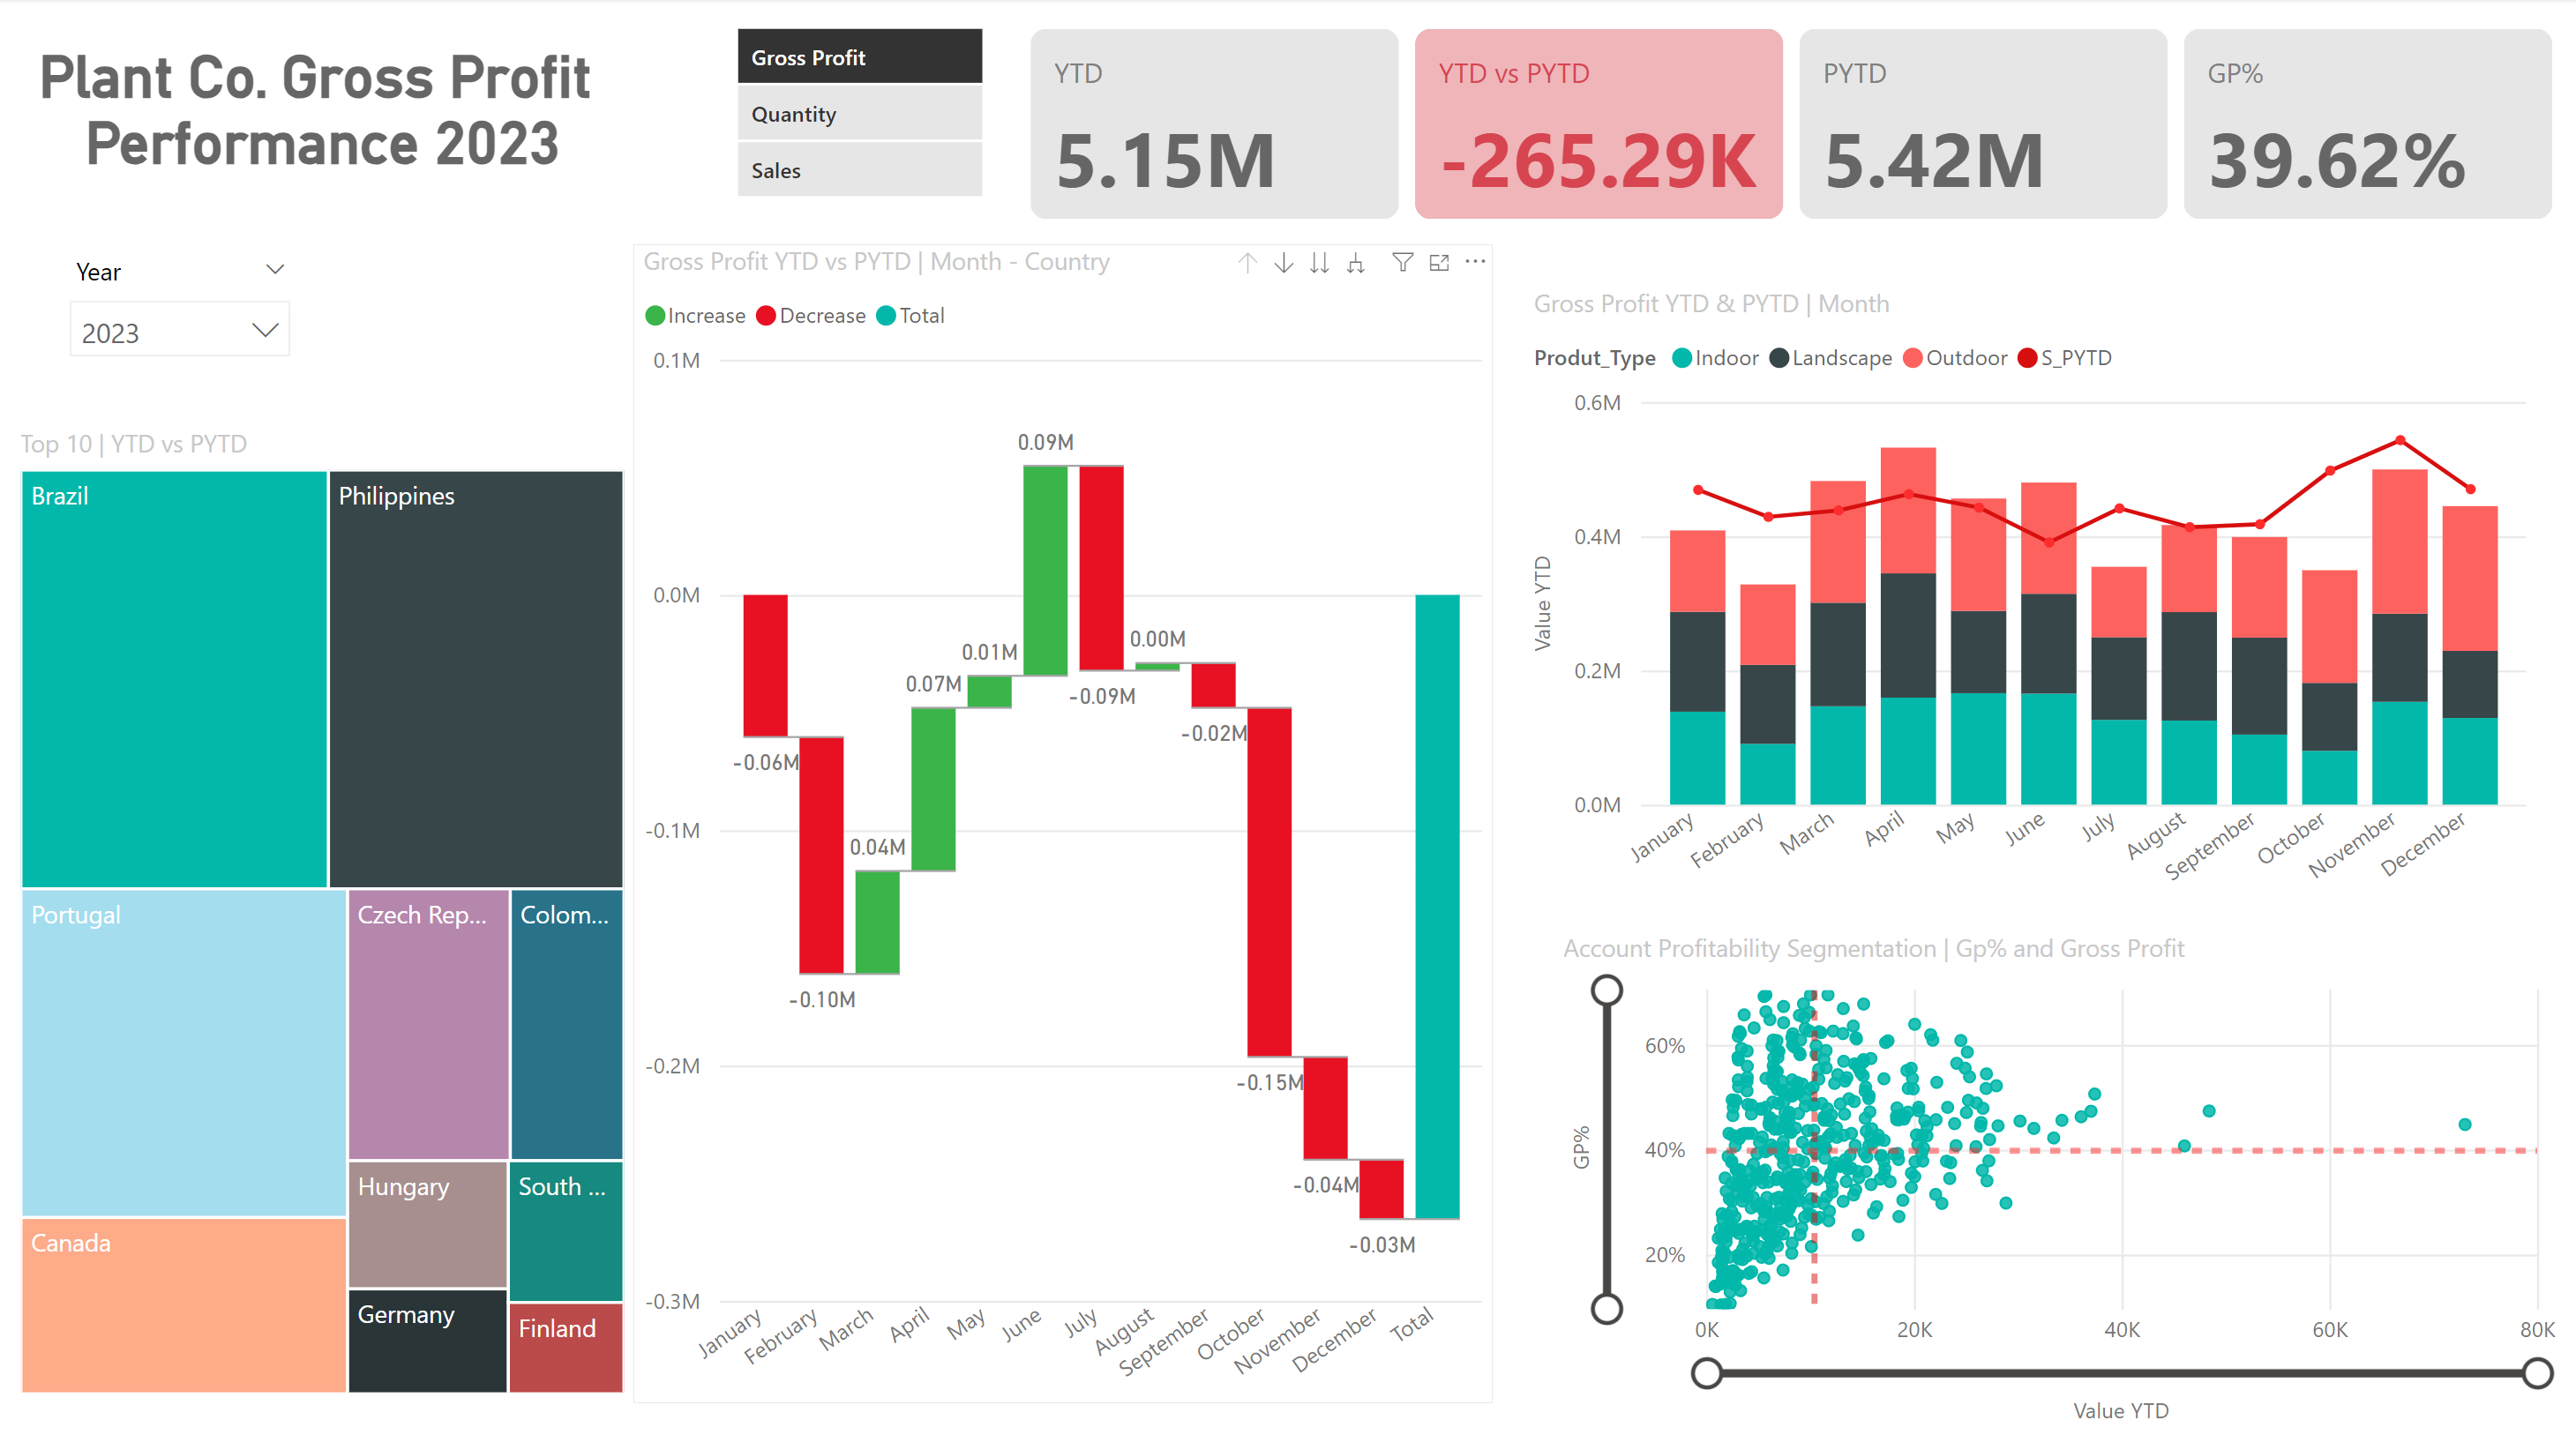

What the dashboard file says about the page in this screenshot:
{"tool":"powerbi","page":{"name":"Page 1","canvas":[1280,720],"ordinal":0},"visuals":[{"type":"advancedSlicerVisual","fields":{"Values":["Slc_Values.Values"]},"box":[360.3,9.8,131,95.5],"z":0},{"type":"slicer","fields":{"Values":["Dim_Date.Date.Variation.Date Hierarchy.Year"]},"box":[25.5,121.6,128.8,83.7],"z":1000},{"type":"treemap","title":"Top 10 | YTD vs PYTD","fields":{"Values":["Measure.S_YTD"],"Group":["Dim_Account.country"]},"box":[5.9,211.9,308,482.6],"z":2000},{"type":"waterfallChart","fields":{"Y":["Measure.YTD vs PYTD"],"Category":["Dim_Date.Date.Variation.Date Hierarchy.Month","Dim_Account.country"]},"box":[313.9,121.6,424.4,572.9],"z":3000},{"type":"lineStackedColumnComboChart","fields":{"Y":["Measure.S_YTD"],"Y2":["Measure.S_PYTD"],"Category":["Dim_Date.Date.Variation.Date Hierarchy.Quarter","Dim_Date.Date.Variation.Date Hierarchy.Month"],"Series":["Dim_Product.Produt_Type"]},"box":[754,142.6,500.3,306.7],"z":4000},{"type":"cardVisual","fields":{"Data":["Measure.S_YTD","Measure.YTD vs PYTD","Measure.S_PYTD","Measure.GP%"]},"box":[504.9,9.8,763.8,104.6],"z":5000},{"type":"scatterChart","fields":{"Y":["Measure.GP%"],"X":["Measure.S_YTD"],"Category":["Dim_Account.Account"]},"box":[768.4,461,500.3,245.2],"z":6000},{"type":"card","fields":{"Values":["Measure._Dynamic_title"]},"box":[0,0,320.4,105.3],"z":7000}]}

Visuals, with their boxes in screenshot pixels (x1, y1, x2, y2), scaled from the page's 1280x720 canvas onto the 2576x1435 screenshot:
advancedSlicerVisual - Slc_Values.Values: [x1=725, y1=19, x2=989, y2=210]
slicer - Dim_Date.Date.Variation.Date Hierarchy.Year: [x1=51, y1=243, x2=311, y2=409]
"Top 10 | YTD vs PYTD" treemap: [x1=11, y1=422, x2=632, y2=1384]
waterfallChart - Measure.YTD vs PYTD x Dim_Date.Date.Variation.Date Hierarchy.Month: [x1=632, y1=243, x2=1486, y2=1384]
lineStackedColumnComboChart - Measure.S_YTD x Measure.S_PYTD: [x1=1517, y1=284, x2=2524, y2=895]
cardVisual - Measure.S_YTD x Measure.YTD vs PYTD: [x1=1016, y1=19, x2=2553, y2=228]
scatterChart - Measure.GP% x Measure.S_YTD: [x1=1546, y1=919, x2=2553, y2=1408]
card - Measure._Dynamic_title: [x1=0, y1=0, x2=645, y2=210]
